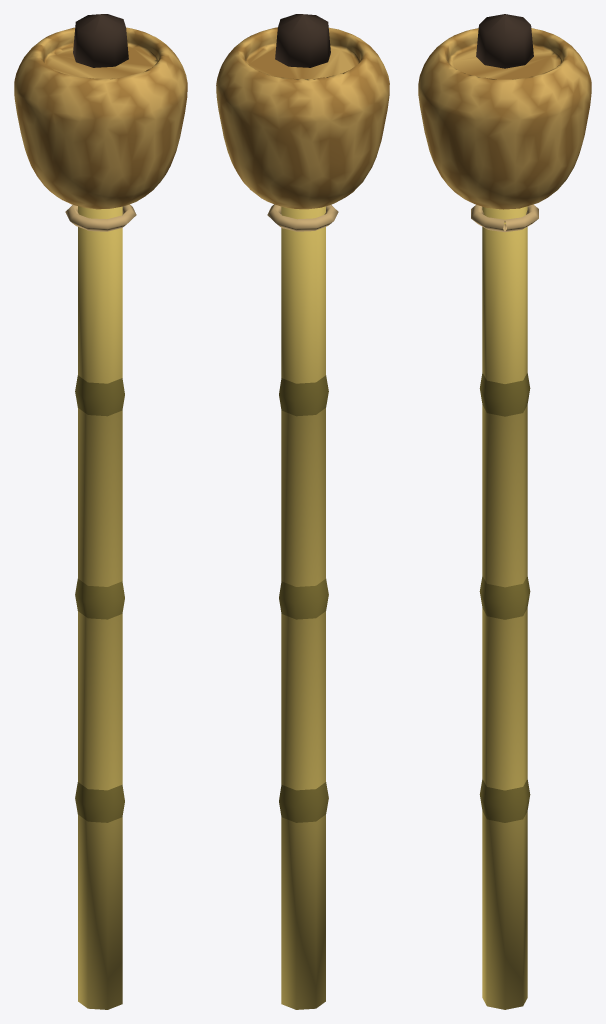
The model's file is tiki_torch.glb.
3 views of the same model, side by side, from view 1: azimuth 30°, elevation 25°; view 2: azimuth 150°, elevation 25°; view 3: azimuth 270°, elevation 25° (orthographic).
Parts seen in each view (by area): view 1: tiki_torch_mesh; view 2: tiki_torch_mesh; view 3: tiki_torch_mesh.
Part boxes in pixels (x1,y1,x2,y2): tiki_torch_mesh: [14, 14, 187, 1009]; tiki_torch_mesh: [216, 14, 389, 1009]; tiki_torch_mesh: [418, 14, 591, 1009].
Size of the model in its own units: 0.3 by 1.88 by 0.3.
